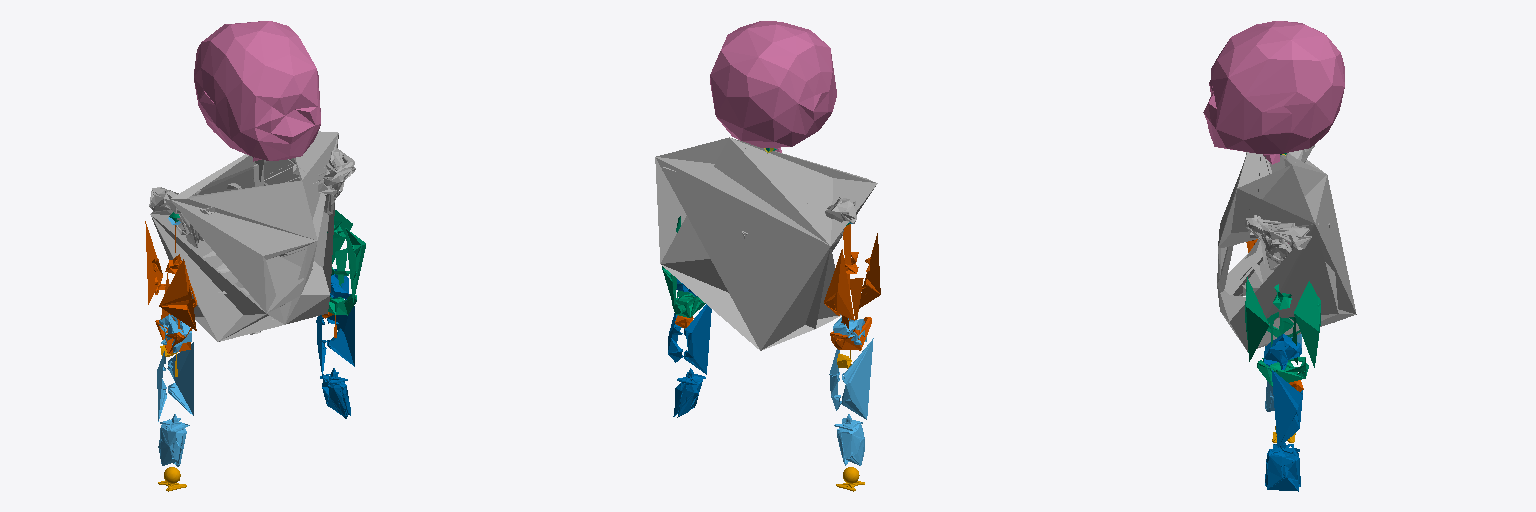
--- Render facts (derived) ---
The picture shows the robot from 3 angles, left to right: view 1: azimuth 30°, elevation 25°; view 2: azimuth 150°, elevation 25°; view 3: azimuth 270°, elevation 25°; orthographic projection.
Model upper_body with 22 links and 21 joints (19 revolute, 2 fixed), rooted at torso, posed every joint at zero.
Visible links, largest first — view 1: torso, head, lowerarm_right, upperarm_right, lowerarm_left, upperarm_left; view 2: torso, head, lowerarm_right, upperarm_right, lowerarm_left, upperarm_left; view 3: torso, head, upperarm_left, lowerarm_left.
Boxes of the visible links, x1,y1,x2,y2 form: torso: (149, 131, 355, 341); head: (194, 21, 320, 161); lowerarm_right: (157, 314, 193, 466); upperarm_right: (145, 221, 196, 353); lowerarm_left: (316, 269, 354, 418); upperarm_left: (327, 210, 365, 315); torso: (655, 137, 877, 350); head: (710, 21, 836, 152); lowerarm_right: (829, 317, 873, 465); upperarm_right: (824, 224, 880, 350); lowerarm_left: (668, 279, 711, 417); upperarm_left: (662, 216, 705, 317); torso: (1217, 145, 1356, 351); head: (1203, 21, 1344, 164); upperarm_left: (1245, 277, 1320, 386); lowerarm_left: (1264, 334, 1302, 491).
Size in the robot's own frame: 0.567 by 0.3513 by 1.15 metres.
17 mesh visuals loaded from 20 distinct referenced files (15 binary STL); not drawn: 5 (reference not matched to a file when rendering).

URDF robot description (upper_body):
<robot name="upper_body">
  <joint name="shoulder_right_axis0" type="revolute">
    <parent link="torso" />
    <child link="shoulder_right_link1" />
    <origin rpy="0 0 0" xyz="-0.21017  0       0.69947" />
    <axis xyz="0.97437  0      -0.22495" />
    <limit effort="1.0" lower="-1.5" upper="1.0" velocity="10.0" />
  </joint>
  <joint name="shoulder_right_axis1" type="revolute">
    <parent link="shoulder_right_link1" />
    <child link="shoulder_right_link2" />
    <origin rpy="0 0 0" xyz="0 0 0" />
    <axis xyz="0 -1  0" />
    <limit effort="1.0" lower="-1.5" upper="0.02" velocity="10.0" />
  </joint>
  <joint name="shoulder_right_axis2" type="revolute">
    <parent link="shoulder_right_link2" />
    <child link="upperarm_right" />
    <origin rpy="0 0 0" xyz="0 0 0" />
    <axis xyz="-0.22495  0      -0.97437" />
    <limit effort="1.0" lower="-0.8" upper="0.8" velocity="10.0" />
  </joint>
  <joint name="head_axis0" type="revolute">
    <parent link="torso" />
    <child link="head_link1" />
    <origin rpy="0 0 0" xyz="0      0      0.84075" />
    <axis xyz="1 0 0" />
    <limit effort="1.0" lower="-0.8" upper="0.8" velocity="10.0" />
  </joint>
  <joint name="head_axis1" type="revolute">
    <parent link="head_link1" />
    <child link="head_link2" />
    <origin rpy="0 0 0" xyz="0 0 0" />
    <axis xyz="0  0 -1" />
    <limit effort="1.0" lower="-1.2" upper="1.2" velocity="10.0" />
  </joint>
  <joint name="head_axis2" type="revolute">
    <parent link="head_link2" />
    <child link="head" />
    <origin rpy="0 0 0" xyz="0 0 0" />
    <axis xyz="0 1 0" />
    <limit effort="1.0" lower="-1.0" upper="1.0" velocity="10.0" />
  </joint>
  <joint name="wrist_right_axis0" type="revolute">
    <parent link="lowerarm_right" />
    <child link="wrist_right_link1" />
    <origin rpy="0 0 0" xyz="-0.00616  0      -0.21039" />
    <axis xyz="1 0 0" />
    <limit effort="1.0" lower="-0.5" upper="0.5" velocity="10.0" />
  </joint>
  <joint name="wrist_right_axis1" type="revolute">
    <parent link="wrist_right_link1" />
    <child link="wrist_right_link2" />
    <origin rpy="0 0 0" xyz="0 0 0" />
    <axis xyz="0 -1  0" />
    <limit effort="1.0" lower="-1.5" upper="1.5" velocity="10.0" />
  </joint>
  <joint name="wrist_right_axis2" type="revolute">
    <parent link="wrist_right_link2" />
    <child link="hand_right" />
    <origin rpy="0 0 0" xyz="0 0 0" />
    <axis xyz="0  0 -1" />
    <limit effort="1.0" lower="-1.5" upper="1.5" velocity="10.0" />
  </joint>
  <joint name="wrist_left_axis0" type="revolute">
    <parent link="lowerarm_left" />
    <child link="wrist_left_link1" />
    <origin rpy="0 0 0" xyz="-0.00073  0      -0.21039" />
    <axis xyz="1 0 0" />
    <limit effort="1.0" lower="-1.5" upper="1.5" velocity="10.0" />
  </joint>
  <joint name="wrist_left_axis1" type="revolute">
    <parent link="wrist_left_link1" />
    <child link="wrist_left_link2" />
    <origin rpy="0 0 0" xyz="0 0 0" />
    <axis xyz="0 1 0" />
    <limit effort="1.0" lower="-0.5" upper="0.5" velocity="10.0" />
  </joint>
  <joint name="wrist_left_axis2" type="revolute">
    <parent link="wrist_left_link2" />
    <child link="hand_left" />
    <origin rpy="0 0 0" xyz="0 0 0" />
    <axis xyz="0 0 1" />
    <limit effort="1.0" lower="-0.5" upper="0.5" velocity="10.0" />
  </joint>
  <joint name="shoulder_left_axis0" type="revolute">
    <parent link="torso" />
    <child link="shoulder_left_link1" />
    <origin rpy="0 0 0" xyz="0.21017 0      0.69947" />
    <axis xyz="0.97437 0      0.22495" />
    <limit effort="1.0" lower="-1.5" upper="0.6" velocity="10.0" />
  </joint>
  <joint name="shoulder_left_axis1" type="revolute">
    <parent link="shoulder_left_link1" />
    <child link="shoulder_left_link2" />
    <origin rpy="0 0 0" xyz="0 0 0" />
    <axis xyz="0 1 0" />
    <limit effort="1.0" lower="-1.4" upper="0.2" velocity="10.0" />
  </joint>
  <joint name="shoulder_left_axis2" type="revolute">
    <parent link="shoulder_left_link2" />
    <child link="upperarm_left" />
    <origin rpy="0 0 0" xyz="0 0 0" />
    <axis xyz="-0.22495  0       0.97437" />
    <limit effort="1.0" lower="-0.1" upper="0.1" velocity="10.0" />
  </joint>
  <joint name="elbow_right_axis1" type="revolute">
    <parent link="elbow_right" />
    <child link="lowerarm_right" />
    <origin rpy="0 0 0" xyz="0.00042  0      -0.09" />
    <axis xyz="1 0 0" />
    <limit effort="1.0" lower="-1.0079632679" upper="0.0" velocity="10.0" />
  </joint>
  <joint name="elbow_right_axis0" type="revolute">
    <parent link="upperarm_right" />
    <child link="elbow_right" />
    <origin rpy="0 0 0" xyz="-0.00106  0      -0.31208" />
    <axis xyz="-1  0  0" />
    <limit effort="1.0" lower="0.0" upper="1.0217304764" velocity="10.0" />
  </joint>
  <joint name="elbow_left_axis0" type="revolute">
    <parent link="upperarm_left" />
    <child link="elbow_left" />
    <origin rpy="0 0 0" xyz="0.00906  0      -0.31208" />
    <axis xyz="-1  0  0" />
    <limit effort="1.0" lower="0" upper="0.8" velocity="10.0" />
  </joint>
  <joint name="elbow_left_axis1" type="revolute">
    <parent link="elbow_left" />
    <child link="lowerarm_left" />
    <origin rpy="0 0 0" xyz="-0.0015  0     -0.09" />
    <axis xyz="-1  0  0" />
    <limit effort="1.0" lower="0.0" upper="0.80079632679" velocity="10.0" />
  </joint>

  <joint name="camera_left" type="fixed">
    <parent link="head" />
    <child link="camera_left" />
    <origin rpy="0 0 0" xyz="0.03 -0.137 0.203" />
    <axis xyz="1  0  0" />
  </joint>
    <joint name="camera_right" type="fixed">
    <parent link="head" />
    <child link="camera_right" />
    <origin rpy="0 0 0" xyz="-0.03 -0.137 0.203" />
    <axis xyz="1  0  0" />
  </joint>
  
    <!--<transmission name="tran1">-->
      <!--<type>transmission_interface/SimpleTransmission</type>-->
      <!--<joint name="head_axis0">-->
        <!--<hardwareInterface>hardware_interface/EffortJointInterface</hardwareInterface>-->
      <!--</joint>-->
      <!--<actuator name="motor1">-->
        <!--<hardwareInterface>hardware_interface/EffortJointInterface</hardwareInterface>-->
        <!--<mechanicalReduction>1</mechanicalReduction>-->
      <!--</actuator>-->
    <!--</transmission>-->

      <!--<transmission name="tran2">-->
      <!--<type>transmission_interface/SimpleTransmission</type>-->
      <!--<joint name="head_axis1">-->
        <!--<hardwareInterface>hardware_interface/EffortJointInterface</hardwareInterface>-->
      <!--</joint>-->
      <!--<actuator name="motor2">-->
        <!--<hardwareInterface>hardware_interface/EffortJointInterface</hardwareInterface>-->
        <!--<mechanicalReduction>1</mechanicalReduction>-->
      <!--</actuator>-->
    <!--</transmission>-->

      <!--<transmission name="tran3">-->
      <!--<type>transmission_interface/SimpleTransmission</type>-->
      <!--<joint name="head_axis2">-->
        <!--<hardwareInterface>hardware_interface/EffortJointInterface</hardwareInterface>-->
      <!--</joint>-->
      <!--<actuator name="motor3">-->
        <!--<hardwareInterface>hardware_interface/EffortJointInterface</hardwareInterface>-->
        <!--<mechanicalReduction>1</mechanicalReduction>-->
      <!--</actuator>-->
    <!--</transmission>-->
  <link name="hand_right">
    <inertial>
      <mass value="0.7514923831884623" />
      <origin rpy="0 0 0" xyz="-0.00506  0.00106 -0.06163" />
      <inertia ixx="0.00329642178906037" ixy="0.0002152027426110002" ixz="0.00414519741777471" iyy="0.040151355516369454" iyz="5.779025691769195e-06" izz="0.03751229870240237" />
    </inertial>
    <collision name="hand_right_collision">
      <origin rpy="0 0 0" xyz="-0.00506  0.00106 -0.06163" />
      <geometry>
        <mesh filename="meshes/collisions/hand_right.stl" scale="0.001 0.001 0.001" />
      </geometry>
    </collision>
    <visual name="hand_right_visual">
      <origin rpy="0 0 0" xyz="-0.00506  0.00106 -0.06163" />
      <geometry>
        <mesh filename="meshes/visuals/hand_right.stl" scale="0.001 0.001 0.001" />
      </geometry>
    </visual>
  </link>
  <link name="lowerarm_right">
    <inertial>
      <mass value="0.5917876637421493" />
      <origin rpy="0 0 0" xyz="-0.00733 -0.00117 -0.11185" />
      <inertia ixx="0.025266093053321618" ixy="-0.00014339118944252453" ixz="0.02401182953031049" iyy="0.05347049319194963" iyz="0.00020339489462638876" izz="0.02883407069587139" />
    </inertial>
    <collision name="lowerarm_right_collision">
      <origin rpy="0 0 0" xyz="-0.00733 -0.00117 -0.11185" />
      <geometry>
        <mesh filename="meshes/collisions/lowerarm_right.stl" scale="0.001 0.001 0.001" />
      </geometry>
    </collision>
    <visual name="lowerarm_right_visual">
      <origin rpy="0 0 0" xyz="-0.00733 -0.00117 -0.11185" />
      <geometry>
        <mesh filename="meshes/visuals/lowerarm_right.stl" scale="0.001 0.001 0.001" />
      </geometry>
    </visual>
  </link>
  <link name="upperarm_left">
    <inertial>
      <mass value="0.6793810152872208" />
      <origin rpy="0 0 0" xyz="0.01104  0.00134 -0.18587" />
      <inertia ixx="0.18978590848989427" ixy="-0.00020381676007052703" ixz="-0.0771493215460898" iyy="0.22219285048351112" iyz="-0.00048014462260051406" izz="0.034641097561777544" />
    </inertial>
    <collision name="upperarm_left_collision">
      <origin rpy="0 0 0" xyz="0.01104  0.00134 -0.18587" />
      <geometry>
        <mesh filename="meshes/collisions/upperarm_left.stl" scale="0.001 0.001 0.001" />
      </geometry>
    </collision>
    <visual name="upperarm_left_visual">
      <origin rpy="0 0 0" xyz="0.01104  0.00134 -0.18587" />
      <geometry>
        <mesh filename="meshes/visuals/upperarm_left.stl" scale="0.001 0.001 0.001" />
      </geometry>
    </visual>
  </link>
  <link name="hand_left">
    <inertial>
      <mass value="0.7514925489985023" />
      <origin rpy="0 0 0" xyz="0.00506  0.00106 -0.06163" />
      <inertia ixx="0.003296422481405665" ixy="-0.000215224109805972" ixz="-0.004145710073447077" iyy="0.0401603001987594" iyz="5.779043768172425e-06" izz="0.03752124270591726" />
    </inertial>
    <collision name="hand_left_collision">
      <origin rpy="0 0 0" xyz="0.00506  0.00106 -0.06163" />
      <geometry>
        <mesh filename="meshes/collisions/hand_left.stl" scale="0.001 0.001 0.001" />
      </geometry>
    </collision>
    <visual name="hand_left_visual">
      <origin rpy="0 0 0" xyz="0.00506  0.00106 -0.06163" />
      <geometry>
        <mesh filename="meshes/visuals/hand_left.stl" scale="0.001 0.001 0.001" />
      </geometry>
    </visual>
  </link>
  <link name="lowerarm_left">
    <inertial>
      <mass value="0.4831137845041076" />
      <origin rpy="0 0 0" xyz="0.00049 -0.00129 -0.09306" />
      <inertia ixx="0.024158444781384562" ixy="0.00012820759060466918" ixz="-0.02159885035361162" iyy="0.04720250767947627" iyz="0.00019696815911384214" izz="0.02362176591875769" />
    </inertial>
    <collision name="lowerarm_left_collision">
      <origin rpy="0 0 0" xyz="0.00049 -0.00129 -0.09306" />
      <geometry>
        <mesh filename="meshes/collisions/lowerarm_left.stl" scale="0.001 0.001 0.001" />
      </geometry>
    </collision>
    <visual name="lowerarm_left_visual">
      <origin rpy="0 0 0" xyz="0.00049 -0.00129 -0.09306" />
      <geometry>
        <mesh filename="meshes/visuals/lowerarm_left.stl" scale="0.001 0.001 0.001" />
      </geometry>
    </visual>
  </link>
  <link name="upperarm_right">
    <inertial>
      <mass value="0.6628658945679491" />
      <origin rpy="0 0 0" xyz="-0.01115  0.00138 -0.17499" />
      <inertia ixx="0.18968787262556008" ixy="0.00020382119259871294" ixz="0.07687427496899825" iyy="0.22131713020188437" iyz="-0.00048015612471741167" izz="0.033863143154471184" />
    </inertial>
    <collision name="upperarm_right_collision">
      <origin rpy="0 0 0" xyz="-0.01115  0.00138 -0.17499" />
      <geometry>
        <mesh filename="meshes/collisions/upperarm_right.stl" scale="0.001 0.001 0.001" />
      </geometry>
    </collision>
    <visual name="upperarm_right_visual">
      <origin rpy="0 0 0" xyz="-0.01115  0.00138 -0.17499" />
      <geometry>
        <mesh filename="meshes/visuals/upperarm_right.stl" scale="0.001 0.001 0.001" />
      </geometry>
    </visual>
  </link>
  <link name="head">
    <inertial>
      <mass value="2.1598514080281315" />
      <origin rpy="0 0 0" xyz="-0.0002  -0.01814  0.1507" />
      <inertia ixx="2.1559773436970113" ixy="2.323405580889926e-05" ixz="0.0004164361828475648" iyy="2.1576901383913416" iyz="0.03738915961197302" izz="0.02811964967375591" />
    </inertial>
    <collision name="head_collision">
      <origin rpy="0 0 0" xyz="-0.0002  -0.01814  0.1507" />
      <geometry>
        <mesh filename="meshes/collisions/head.stl" scale="0.001 0.001 0.001" />
      </geometry>
    </collision>
    <visual name="head_visual">
      <origin rpy="0 0 0" xyz="-0.0002  -0.01814  0.1507" />
      <geometry>
        <mesh filename="meshes/visuals/head.stl" scale="0.001 0.001 0.001" />
      </geometry>
    </visual>
  </link>
  <link name="torso">
    <inertial>
      <mass value="25.160471303342216" />
      <origin rpy="0 0 0" xyz="0.00776 0.00282 0.62658" />
      <inertia ixx="10.398585859477636" ixy="0.00015013373897767912" ixz="-0.10586365499644151" iyy="10.58255768903264" iyz="-0.05807739632925058" izz="0.4658890640245697" />
    </inertial>
    <collision name="torso_collision">
      <origin rpy="0 0 0" xyz="0.00776 0.00282 0.62658" />
      <geometry>
        <mesh filename="meshes/collisions/torso.stl" scale="0.001 0.001 0.001" />
      </geometry>
    </collision>
    <visual name="torso_visual">
      <origin rpy="0 0 0" xyz="0.00776 0.00282 0.62658" />
      <geometry>
        <mesh filename="meshes/visuals/torso.stl" scale="0.001 0.001 0.001" />
      </geometry>
    </visual>
  </link>
  <link name="elbow_right">
    <inertial>
      <mass value="0.035913480602683866" />
      <origin rpy="0 0 0" xyz="-0.00474  0.03025 -0.04463" />
      <inertia ixx="0.004274453667256835" ixy="0.00023607548638453937" ixz="0.002658593224303575" iyy="0.005909490039237715" iyz="-0.0003724752910205753" izz="0.0017216986311418606" />
    </inertial>
    <collision name="elbow_right_collision">
      <origin rpy="0 0 0" xyz="-0.00474  0.03025 -0.04463" />
      <geometry>
        <mesh filename="meshes/collisions/elbow_right.stl" scale="0.001 0.001 0.001" />
      </geometry>
    </collision>
    <visual name="elbow_right_visual">
      <origin rpy="0 0 0" xyz="-0.00474  0.03025 -0.04463" />
      <geometry>
        <mesh filename="meshes/visuals/elbow_right.stl" scale="0.001 0.001 0.001" />
      </geometry>
    </visual>
  </link>
  <link name="shoulder_right_link1">
    <inertial>
      <mass value="0.09036362653441246" />
      <origin rpy="0 0 0" xyz="0 0 0" />
      <inertia ixx="0.04421931675263708" ixy="3.626265954181918e-18" ixz="0.01328454638864534" iyy="0.04821095418145326" iyz="-1.2045919817182948e-17" izz="0.003998729023415919" />
    </inertial>
    <collision name="shoulder_right_link1_collision">
      <origin rpy="0 0 0" xyz="0 0 0" />
      <geometry>
        <mesh filename="meshes/collisions/shoulder_right_link1.stl" scale="0.001 0.001 0.001" />
      </geometry>
    </collision>
    <visual name="shoulder_right_link1_visual">
      <origin rpy="0 0 0" xyz="0 0 0" />
      <geometry>
        <mesh filename="meshes/visuals/shoulder_right_link1.stl" scale="0.001 0.001 0.001" />
      </geometry>
    </visual>
  </link>
  <link name="shoulder_right_link2">
    <inertial>
      <mass value="0.007113171768014983" />
      <origin rpy="0 0 0" xyz="0 0 0" />
      <inertia ixx="0.0034803651538984483" ixy="2.808517307606451e-19" ixz="0.0010457223104764577" iyy="0.0037945756803650283" iyz="-9.325873406851316e-19" izz="0.0003143130585953205" />
    </inertial>
    <collision name="shoulder_right_link2_collision">
      <origin rpy="0 0 0" xyz="0 0 0" />
      <geometry>
        <mesh filename="meshes/collisions/shoulder_right_link2.stl" scale="0.001 0.001 0.001" />
      </geometry>
    </collision>
    <visual name="shoulder_right_link2_visual">
      <origin rpy="0 0 0" xyz="0 0 0" />
      <geometry>
        <mesh filename="meshes/visuals/shoulder_right_link2.stl" scale="0.001 0.001 0.001" />
      </geometry>
    </visual>
  </link>
  <link name="wrist_right_link1">
    <inertial>
      <mass value="0.03806502884740437" />
      <origin rpy="0 0 0" xyz="0 0 0" />
      <inertia ixx="0.00028979287111819324" ixy="1.061650767297806e-18" ixz="0.0007185410043660903" iyy="0.0020817946848411925" iyz="-4.250072516143178e-19" izz="0.0017936804814951703" />
    </inertial>
    <collision name="wrist_right_link1_collision">
      <origin rpy="0 0 0" xyz="0 0 0" />
      <geometry>
        <mesh filename="meshes/collisions/wrist_right_link1.stl" scale="0.001 0.001 0.001" />
      </geometry>
    </collision>
    <visual name="wrist_right_link1_visual">
      <origin rpy="0 0 0" xyz="0 0 0" />
      <geometry>
        <mesh filename="meshes/visuals/wrist_right_link1.stl" scale="0.001 0.001 0.001" />
      </geometry>
    </visual>
  </link>
  <link name="wrist_right_link2">
    <inertial>
      <mass value="0.002996372533177606" />
      <origin rpy="0 0 0" xyz="0 0 0" />
      <inertia ixx="2.2703814321141537e-05" ixy="8.278967789099312e-20" ixz="5.656153678683516e-05" iyy="0.0001637651815821358" iyz="-3.315490243460673e-20" izz="0.000141085637878513" />
    </inertial>
    <collision name="wrist_right_link2_collision">
      <origin rpy="0 0 0" xyz="0 0 0" />
      <geometry>
        <mesh filename="meshes/collisions/wrist_right_link2.stl" scale="0.001 0.001 0.001" />
      </geometry>
    </collision>
    <visual name="wrist_right_link2_visual">
      <origin rpy="0 0 0" xyz="0 0 0" />
      <geometry>
        <mesh filename="meshes/visuals/wrist_right_link2.stl" scale="0.001 0.001 0.001" />
      </geometry>
    </visual>
  </link>
  <link name="elbow_left">
    <inertial>
      <mass value="0.03591352060165305" />
      <origin rpy="0 0 0" xyz="-0.00325  0.03025 -0.04463" />
      <inertia ixx="0.004274458918966475" ixy="-0.00023607544149196254" ixz="-0.002658629464100515" iyy="0.0059095370580604595" iyz="-0.000372475167922204" izz="0.0017217402510529421" />
    </inertial>
    <collision name="elbow_left_collision">
      <origin rpy="0 0 0" xyz="-0.00325  0.03025 -0.04463" />
      <geometry>
        <mesh filename="meshes/collisions/elbow_left.stl" scale="0.001 0.001 0.001" />
      </geometry>
    </collision>
    <visual name="elbow_left_visual">
      <origin rpy="0 0 0" xyz="-0.00325  0.03025 -0.04463" />
      <geometry>
        <mesh filename="meshes/visuals/elbow_left.stl" scale="0.001 0.001 0.001" />
      </geometry>
    </visual>
  </link>
  <link name="shoulder_left_link1">
    <inertial>
      <mass value="0.09036362653441248" />
      <origin rpy="0 0 0" xyz="0 0 0" />
      <inertia ixx="0.044219316752637086" ixy="-3.6290415117434806e-18" ixz="-0.013284546388645343" iyy="0.04821095418145326" iyz="-1.2079226507921704e-17" izz="0.003998729023415921" />
    </inertial>
    <collision name="shoulder_left_link1_collision">
      <origin rpy="0 0 0" xyz="0 0 0" />
      <geometry>
        <mesh filename="meshes/collisions/shoulder_left_link1.stl" scale="0.001 0.001 0.001" />
      </geometry>
    </collision>
    <visual name="shoulder_left_link1_visual">
      <origin rpy="0 0 0" xyz="0 0 0" />
      <geometry>
        <mesh filename="meshes/visuals/shoulder_left_link1.stl" scale="0.001 0.001 0.001" />
      </geometry>
    </visual>
  </link>
  <link name="shoulder_left_link2">
    <inertial>
      <mass value="0.007113171768014981" />
      <origin rpy="0 0 0" xyz="0 0 0" />
      <inertia ixx="0.003480365153898447" ixy="-2.8206603719382882e-19" ixz="-0.0010457223104764577" iyy="0.003794575680365027" iyz="-9.370976217226712e-19" izz="0.0003143130585953206" />
    </inertial>
    <collision name="shoulder_left_link2_collision">
      <origin rpy="0 0 0" xyz="0 0 0" />
      <geometry>
        <mesh filename="meshes/collisions/shoulder_left_link2.stl" scale="0.001 0.001 0.001" />
      </geometry>
    </collision>
    <visual name="shoulder_left_link2_visual">
      <origin rpy="0 0 0" xyz="0 0 0" />
      <geometry>
        <mesh filename="meshes/visuals/shoulder_left_link2.stl" scale="0.001 0.001 0.001" />
      </geometry>
    </visual>
  </link>
  <link name="wrist_left_link1">
    <inertial>
      <mass value="0.03806502884740436" />
      <origin rpy="0 0 0" xyz="0 0 0" />
      <inertia ixx="0.00028979287111817464" ixy="-8.971989817752046e-19" ixz="-0.0007186296796101484" iyy="0.002082237014513603" iyz="-3.590877595271991e-19" izz="0.0017941228111675988" />
    </inertial>
    <collision name="wrist_left_link1_collision">
      <origin rpy="0 0 0" xyz="0 0 0" />
      <geometry>
        <mesh filename="meshes/collisions/wrist_left_link1.stl" scale="0.001 0.001 0.001" />
      </geometry>
    </collision>
    <visual name="wrist_left_link1_visual">
      <origin rpy="0 0 0" xyz="0 0 0" />
      <geometry>
        <mesh filename="meshes/visuals/wrist_left_link1.stl" scale="0.001 0.001 0.001" />
      </geometry>
    </visual>
  </link>
  <link name="wrist_left_link2">
    <inertial>
      <mass value="0.002996372533177606" />
      <origin rpy="0 0 0" xyz="0 0 0" />
      <inertia ixx="2.2703814321140076e-05" ixy="-7.034303695085953e-20" ixz="-5.656851705386013e-05" iyy="0.00016380000053594067" iyz="-2.816757244117341e-20" izz="0.00014112045683231935" />
    </inertial>
    <collision name="wrist_left_link2_collision">
      <origin rpy="0 0 0" xyz="0 0 0" />
      <geometry>
        <mesh filename="meshes/collisions/wrist_left_link2.stl" scale="0.001 0.001 0.001" />
      </geometry>
    </collision>
    <visual name="wrist_left_link2_visual">
      <origin rpy="0 0 0" xyz="0 0 0" />
      <geometry>
        <mesh filename="meshes/visuals/wrist_left_link2.stl" scale="0.001 0.001 0.001" />
      </geometry>
    </visual>
  </link>
  <link name="head_link1">
    <inertial>
      <mass value="0.03806502884740436" />
      <origin rpy="0 0 0" xyz="0 0 0" />
      <inertia ixx="0.026908346370427178" ixy="-2.168404344971009e-22" ixz="-2.4424906541753445e-19" iyy="0.026908346370427178" iyz="5.601075159233915e-18" izz="1.6786677721705307e-06" />
    </inertial>
    <collision name="head_link1_collision">
      <origin rpy="0 0 0" xyz="0 0 0" />
      <geometry>
        <mesh filename="meshes/collisions/head_link1.stl" scale="0.001 0.001 0.001" />
      </geometry>
    </collision>
    <visual name="head_link1_visual">
      <origin rpy="0 0 0" xyz="0 0 0" />
      <geometry>
        <mesh filename="meshes/visuals/head_link1.stl" scale="0.001 0.001 0.001" />
      </geometry>
    </visual>
  </link>
  <link name="head_link2">
    <inertial>
      <mass value="0.002996372533177606" />
      <origin rpy="0 0 0" xyz="0 0 0" />
      <inertia ixx="0.002118041844878994" ixy="3.404394821608228e-24" ixz="-1.78481526433294e-20" iyy="0.002118041844878994" iyz="4.440892098500626e-19" izz="2.427061751873877e-08" />
    </inertial>
    <collision name="head_link2_collision">
      <origin rpy="0 0 0" xyz="0 0 0" />
      <geometry>
        <mesh filename="meshes/collisions/head_link2.stl" scale="0.001 0.001 0.001" />
      </geometry>
    </collision>
    <visual name="head_link2_visual">
      <origin rpy="0 0 0" xyz="0 0 0" />
      <geometry>
        <mesh filename="meshes/visuals/head_link2.stl" scale="0.001 0.001 0.001" />
      </geometry>
    </visual>
  </link>

    <link name="camera_left">
    <inertial>
      <mass value="0.002996372533177606" />
      <origin rpy="0 0 0" xyz="0 0 0" />
      <inertia ixx="0.002118041844878994" ixy="3.404394821608228e-24" ixz="-1.78481526433294e-20" iyy="0.002118041844878994" iyz="4.440892098500626e-19" izz="2.427061751873877e-08" />
    </inertial>
    <collision name="head_link2_collision">
      <origin rpy="0 0 0" xyz="0 0 0" />
      <geometry>
        <mesh filename="meshes/collisions/head_link2.stl" scale="0.001 0.001 0.001" />
      </geometry>
    </collision>
    <visual name="head_link2_visual">
      <origin rpy="0 0 0" xyz="0 0 0" />
      <geometry>
        <mesh filename="meshes/visuals/head_link2.stl" scale="0.001 0.001 0.001" />
      </geometry>
    </visual>
  </link>

  <link name="camera_right">
    <inertial>
      <mass value="0.002996372533177606" />
      <origin rpy="0 0 0" xyz="0 0 0" />
      <inertia ixx="0.002118041844878994" ixy="3.404394821608228e-24" ixz="-1.78481526433294e-20" iyy="0.002118041844878994" iyz="4.440892098500626e-19" izz="2.427061751873877e-08" />
    </inertial>
    <collision name="head_link2_collision">
      <origin rpy="0 0 0" xyz="0 0 0" />
      <geometry>
        <mesh filename="meshes/collisions/head_link2.stl" scale="0.001 0.001 0.001" />
      </geometry>
    </collision>
    <visual name="head_link2_visual">
      <origin rpy="0 0 0" xyz="0 0 0" />
      <geometry>
        <mesh filename="meshes/visuals/head_link2.stl" scale="0.001 0.001 0.001" />
      </geometry>
    </visual>
  </link>

</robot>
